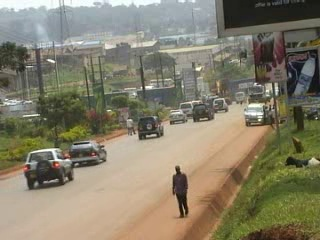Car: (22, 146, 75, 191), (67, 138, 109, 168), (135, 112, 165, 141), (188, 103, 216, 122), (165, 106, 189, 128), (210, 96, 230, 114)
